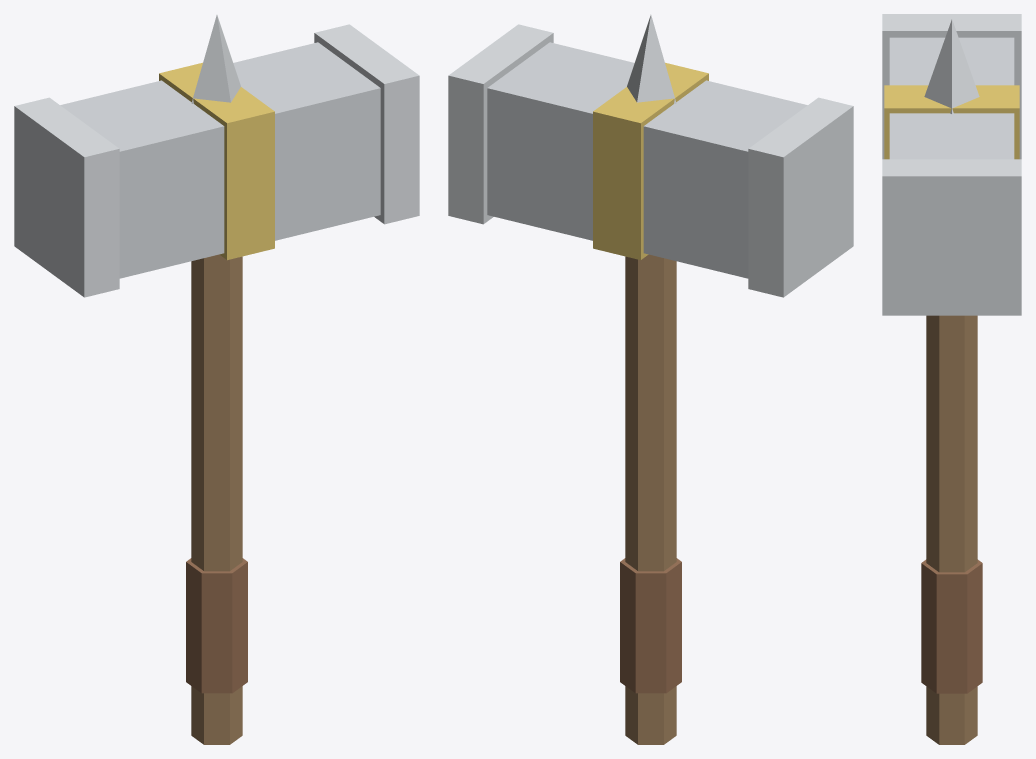
The model's file is hammer.glb.
3 views of the same model, side by side, from view 1: azimuth 30°, elevation 25°; view 2: azimuth 150°, elevation 25°; view 3: azimuth 270°, elevation 25° (orthographic).
Parts seen in each view (by area): view 1: hammer_head, hammer_handle, hammer_face_-1, hammer_band, hammer_face_1, hammer_grip, hammer_spike; view 2: hammer_head, hammer_handle, hammer_face_-1, hammer_band, hammer_face_1, hammer_grip, hammer_spike; view 3: hammer_face_1, hammer_handle, hammer_head, hammer_grip, hammer_face_-1, hammer_band, hammer_spike.
Part boxes in pixels (<box>): hammer_head: <box>60,42,380,278</box>; hammer_handle: <box>191,254,242,744</box>; hammer_face_-1: <box>14,97,119,297</box>; hammer_band: <box>159,62,274,260</box>; hammer_face_1: <box>314,24,419,224</box>; hammer_grip: <box>186,558,247,693</box>; hammer_spike: <box>191,15,240,103</box>; hammer_head: <box>487,42,807,278</box>; hammer_handle: <box>625,254,676,744</box>; hammer_face_-1: <box>748,97,853,297</box>; hammer_band: <box>593,62,708,260</box>; hammer_face_1: <box>448,24,553,224</box>; hammer_grip: <box>620,558,681,693</box>; hammer_spike: <box>627,15,676,103</box>; hammer_face_1: <box>882,159,1021,315</box>; hammer_handle: <box>926,315,977,744</box>; hammer_head: <box>889,37,1014,159</box>; hammer_grip: <box>921,559,982,693</box>; hammer_face_-1: <box>882,14,1021,159</box>; hammer_band: <box>884,85,1019,159</box>; hammer_spike: <box>924,19,979,113</box>.
Bounding box in the file's own units: 0.525 × 1.08 × 0.19.
